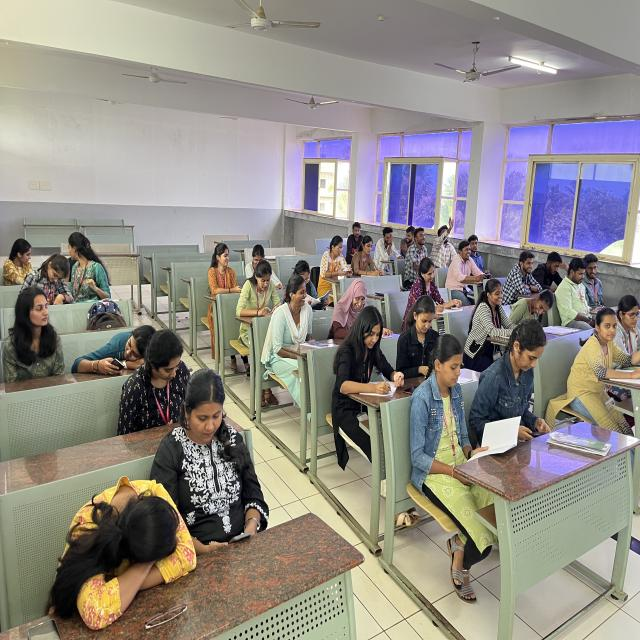Reading: (404, 330, 522, 472), (292, 260, 334, 309)
Sleeping: (40, 467, 204, 622), (62, 318, 162, 390)
Using Phone: (160, 371, 296, 568), (446, 238, 495, 292), (318, 233, 356, 281)
Writing: (330, 300, 404, 410), (352, 234, 385, 279)
